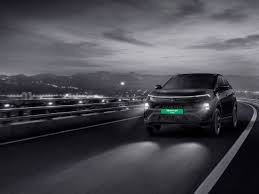Tata Nexon: (141, 70, 239, 137)
